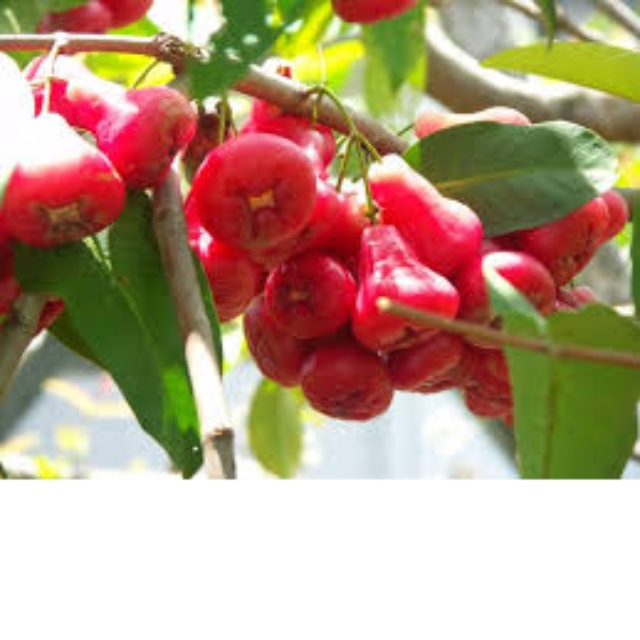xoai: (366, 143, 508, 274), (6, 108, 129, 251), (188, 126, 313, 252), (292, 323, 404, 435), (351, 221, 449, 344)
